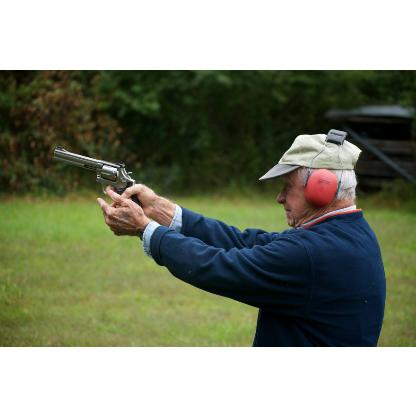gun: (50, 146, 146, 235)
